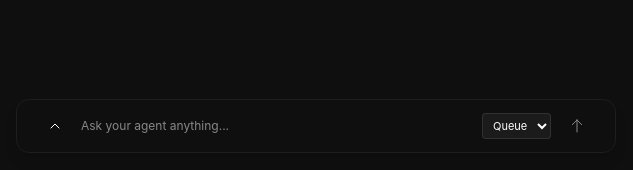
FloatingChat › searches current cards and selects one with the keyboard
In the field with placeholder "Ask your agent anything...": [276, 126] box [81,117,470,134], type "@release"
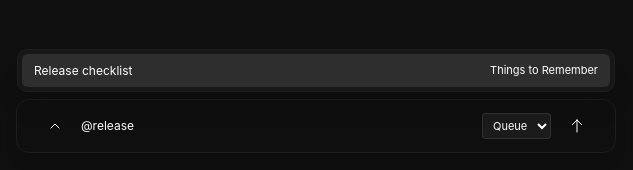
Expected: the option "Delegate reporting" is not shown
Expected: the list named "Smart Board cards" is shown, [17,49,615,92]
Expected: the option "Release checklist Things to Remember" is shown, [22,54,610,87]
Replace the text in the field with placeholder "Ask your agent anything..." with "@": [276, 126] box [81,117,470,134]
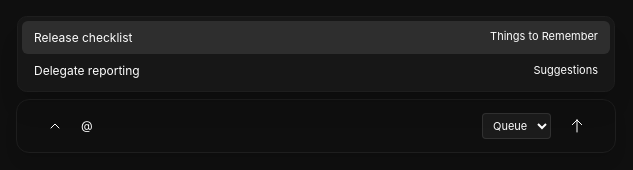
Press ArrowDown in the field with placeholder "Ask your agent anything...", box [81,117,470,134]
Press Enter in the field with placeholder "Ask your agent anything...", box [81,117,470,134]
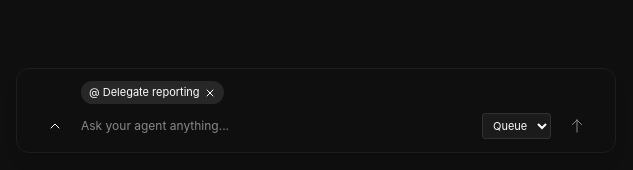
Expected: the text "@ Delegate reporting" is shown, [81,81,224,104]
Expected: the field with placeholder "Ask your agent anything..." is empty, [81,117,470,134]
